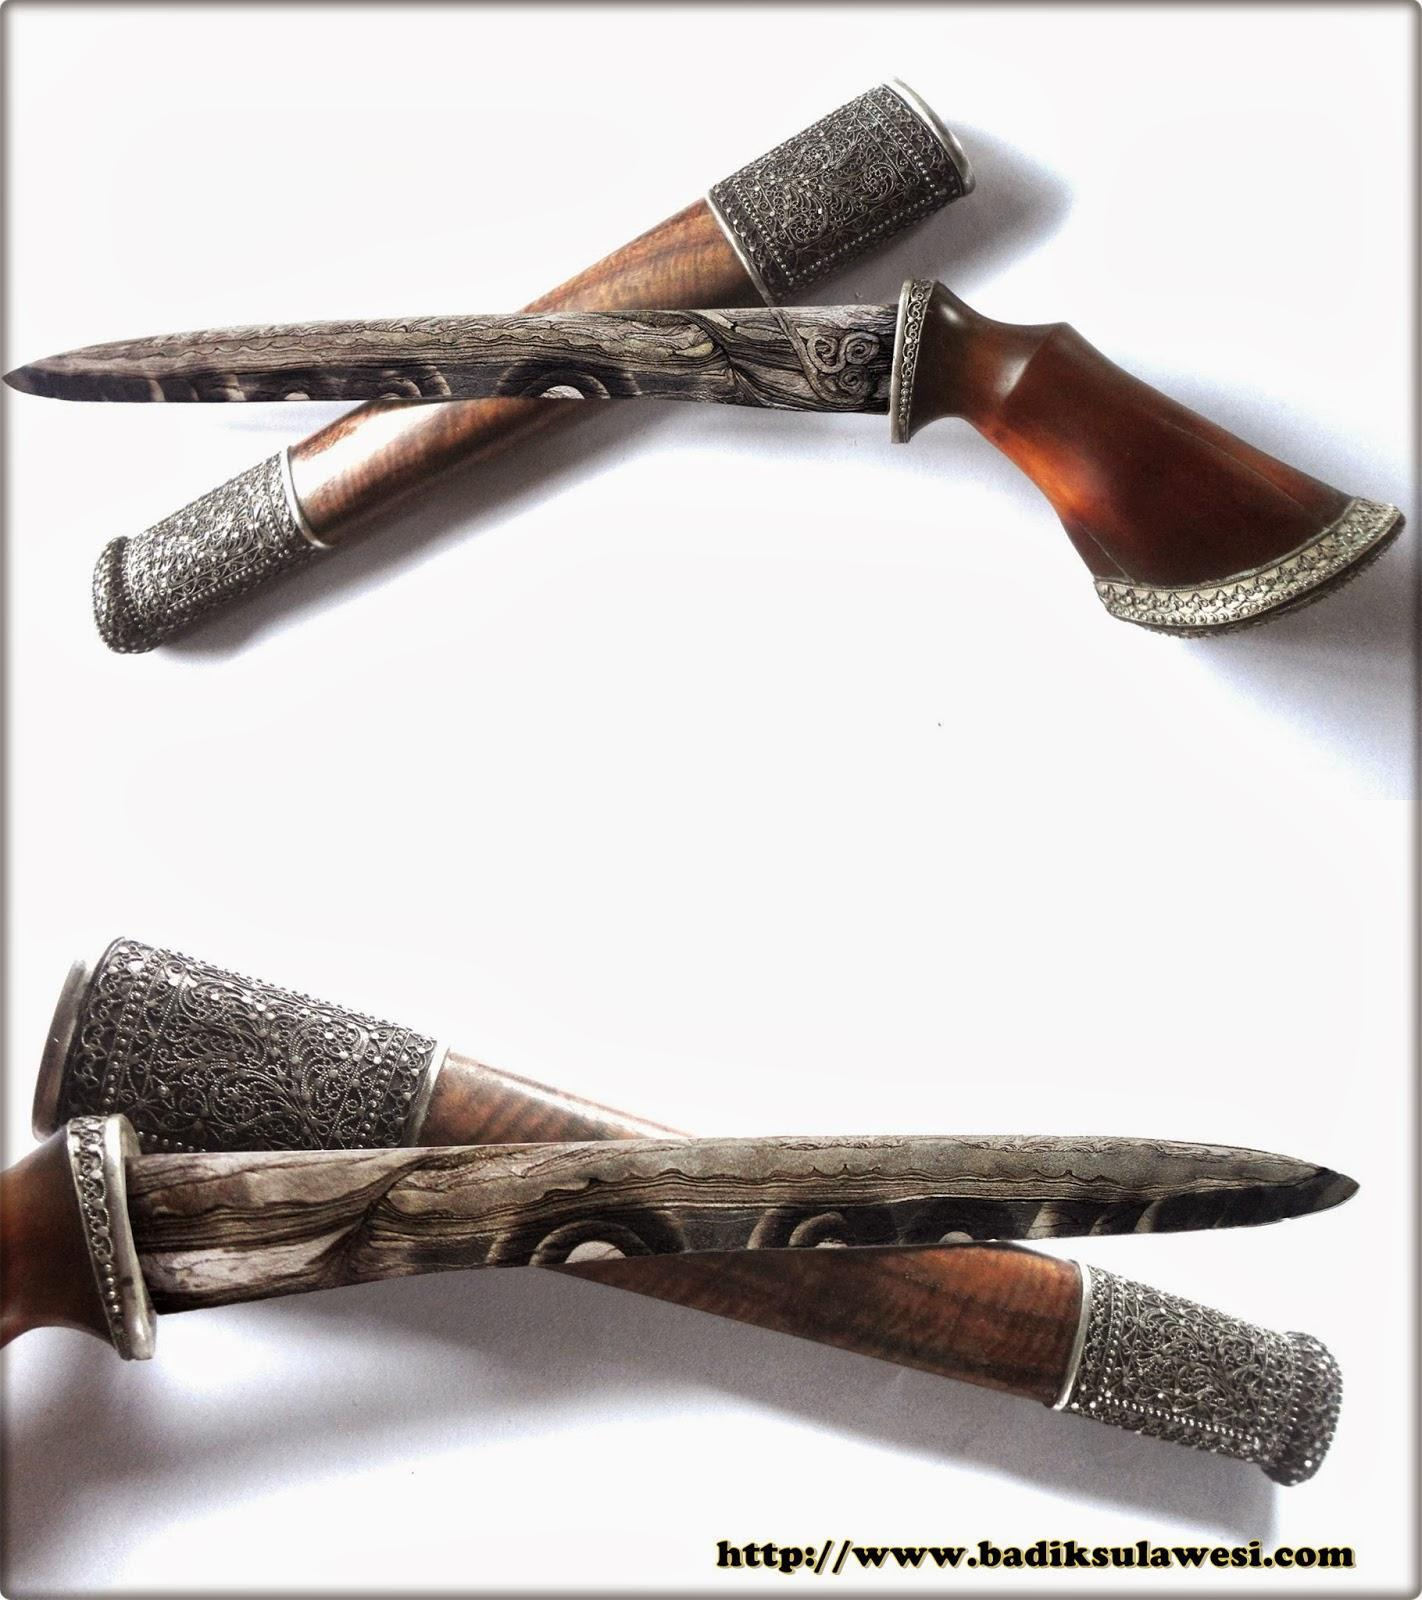facao: (0, 250, 1410, 678), (0, 1065, 1393, 1420)
